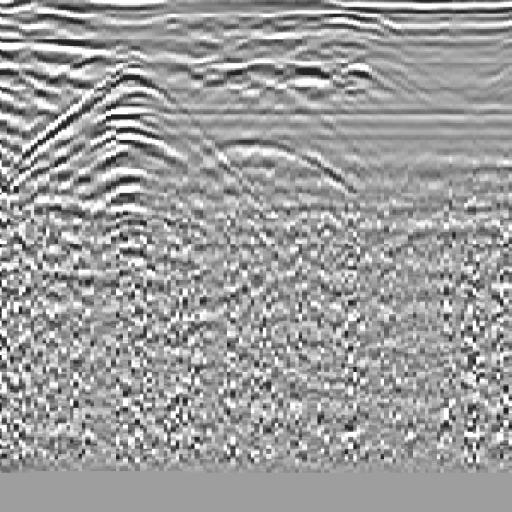metalic: (19, 70, 230, 245)
